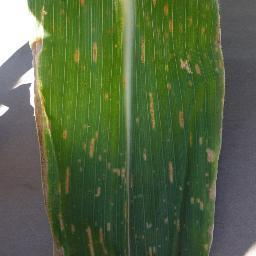Gray_Leaf_Spot: (203, 0, 231, 256), (28, 0, 53, 199), (37, 203, 65, 255), (142, 87, 160, 133), (176, 57, 208, 77), (98, 227, 115, 256), (162, 0, 175, 37), (86, 129, 100, 160), (136, 37, 149, 69), (204, 144, 224, 164), (86, 228, 98, 256), (73, 46, 88, 67), (65, 162, 73, 198), (89, 182, 106, 197), (91, 36, 100, 64), (110, 164, 129, 177), (163, 215, 182, 228), (138, 143, 150, 161), (169, 153, 176, 183), (100, 87, 116, 100), (178, 107, 186, 130), (190, 199, 206, 210), (145, 243, 160, 254), (68, 220, 79, 234), (62, 128, 71, 141), (79, 0, 84, 10)
